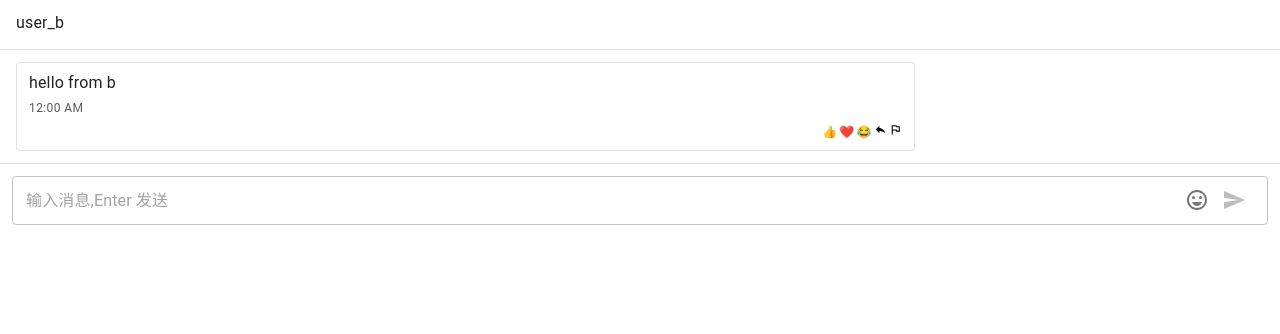
Test: ChatWindow › sends typed text with Enter and shows it immediately
Type "my turn" into the text box with placeholder "输入消息,Enter 发送".
click(599, 200); type("my turn")  # box [26, 188, 1172, 212]
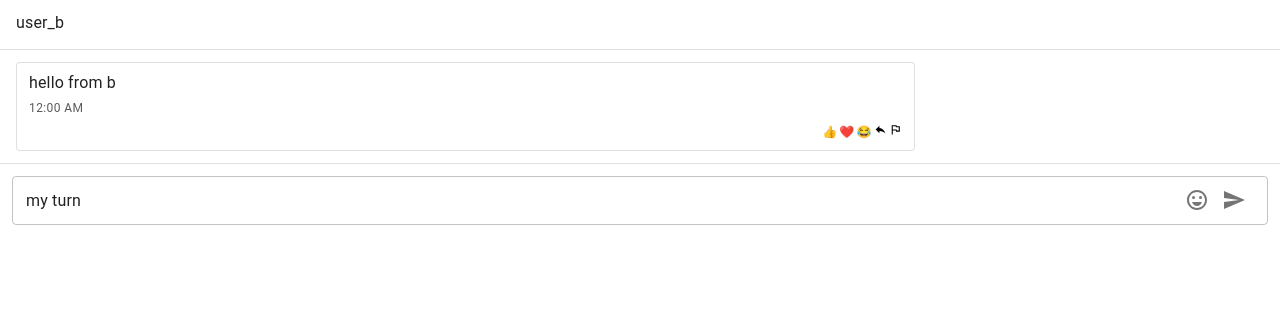
Press Enter in the text box, box [26, 188, 1172, 212]
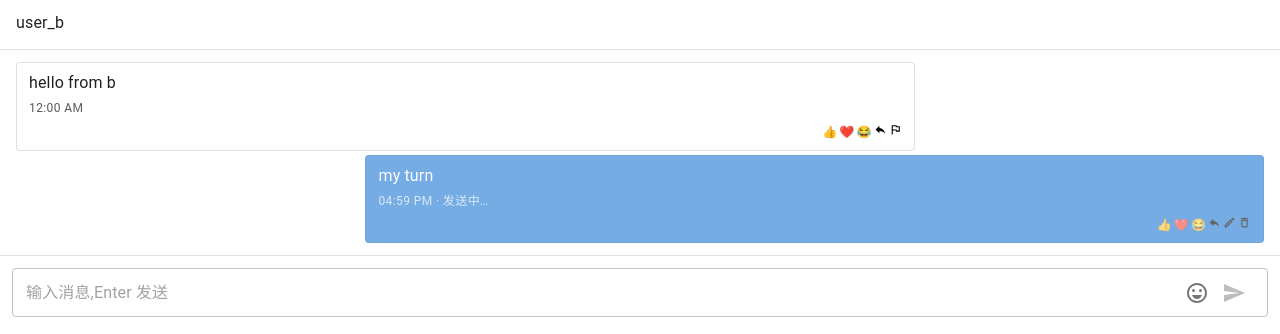
Check: the text "my turn" is shown, box [378, 166, 433, 184]
